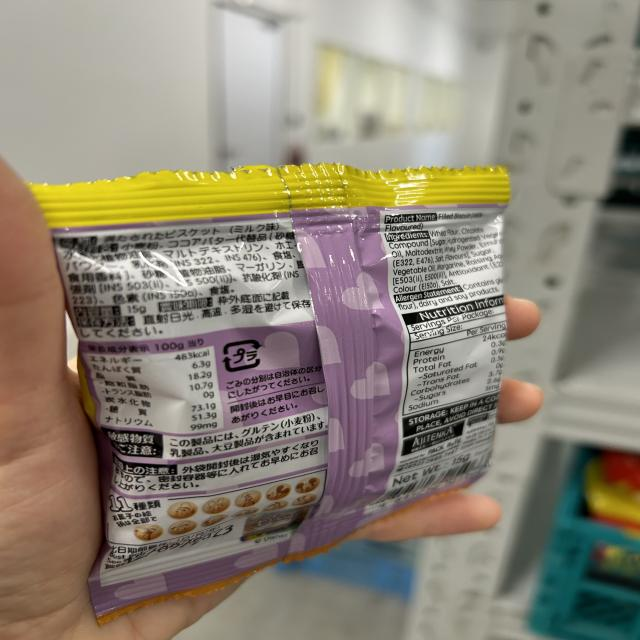object_name: (66, 184, 485, 494)
